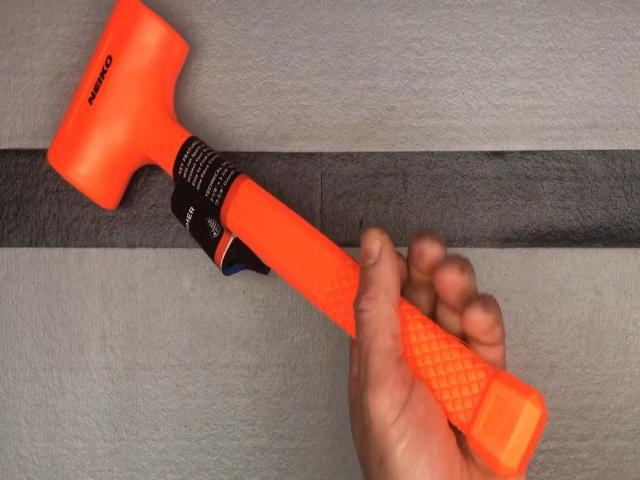hammer: (47, 0, 548, 480)
